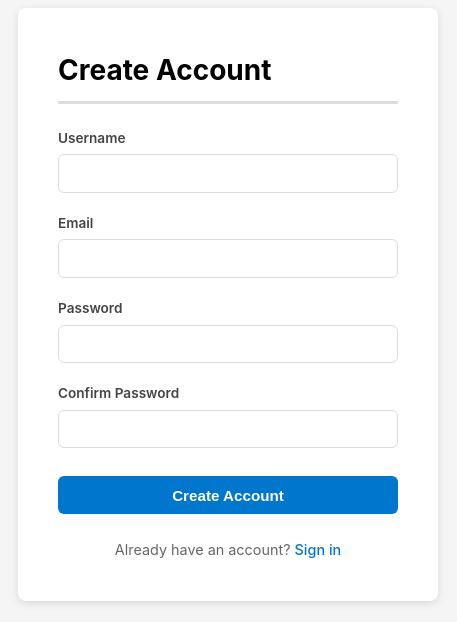
Test: RegisterPage › disables button while submitting
In the field labelled "Username": (228, 174) [58,154,398,193], type "alice"
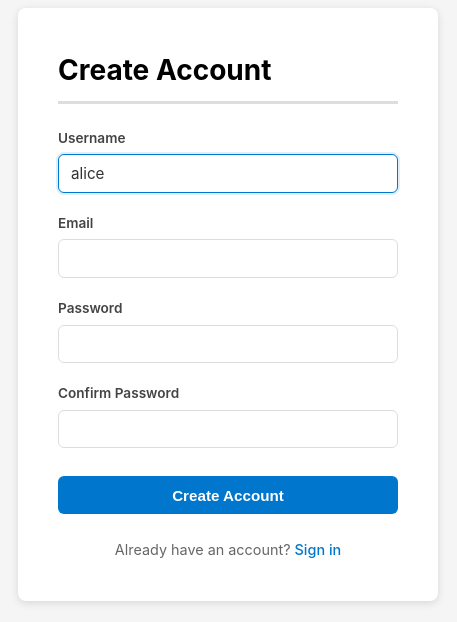
In the field labelled "Email": (228, 259) [58,240,398,278], type "alice@example.com"
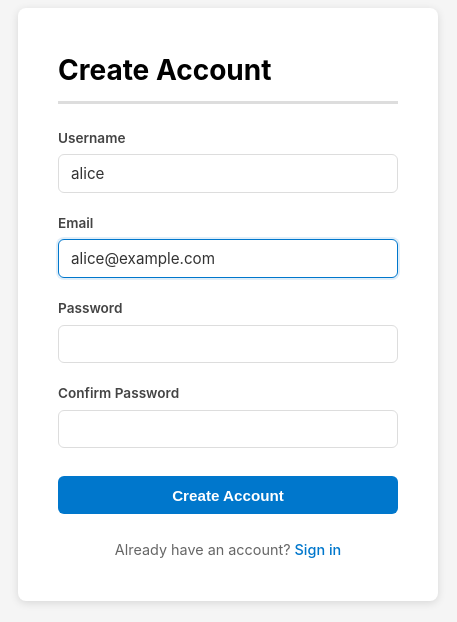
In the password field labelled "Password": (228, 344) [58,325,398,363], type "StrongPass123!"
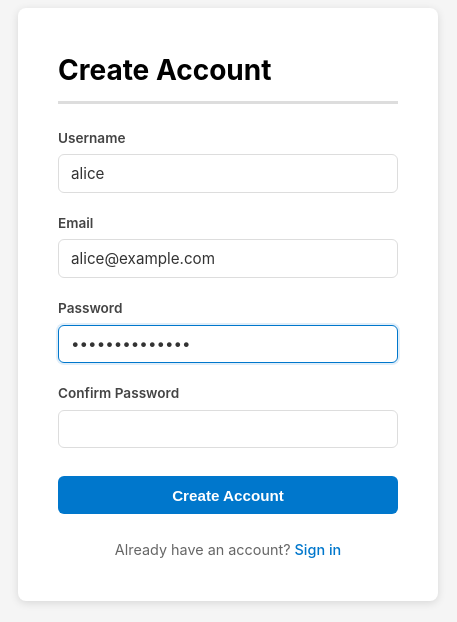
In the password field labelled "Confirm Password": (228, 429) [58,410,398,448], type "StrongPass123!"
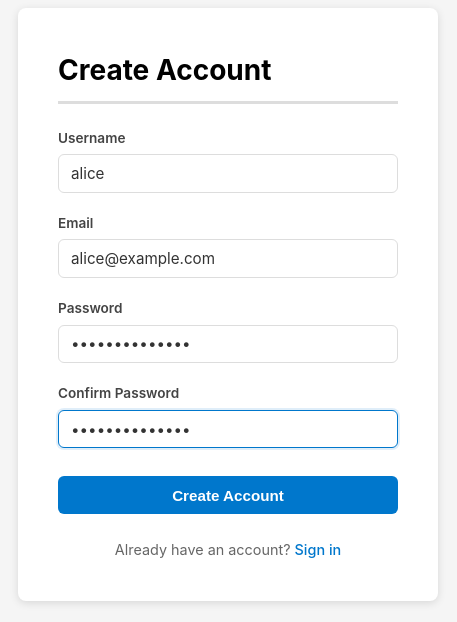
Click the button "Create Account": (228, 495) [58,476,398,514]
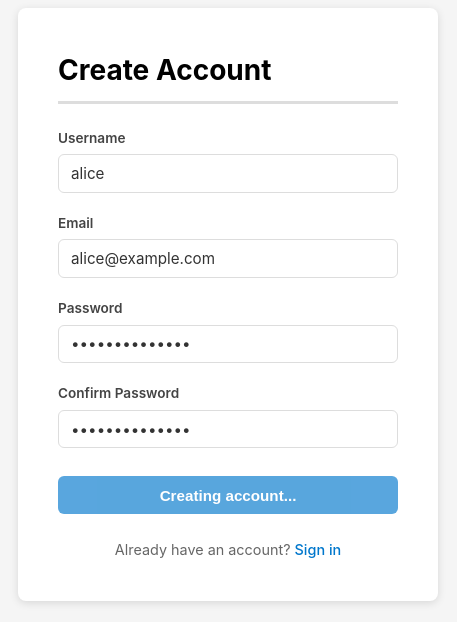
Now the button "Creating account..." is disabled, box [58,476,398,514]
